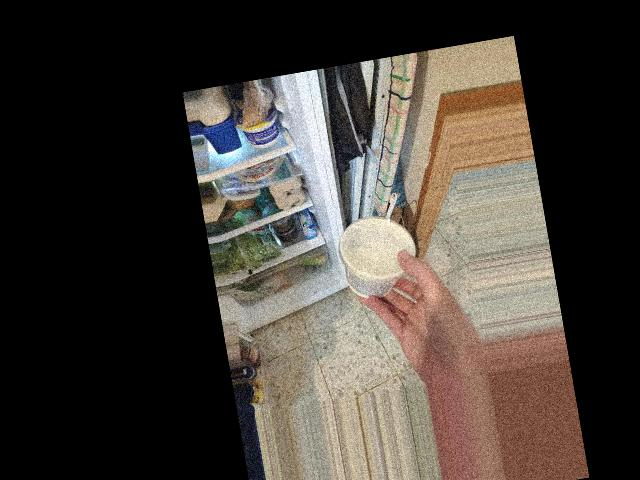cotage: (337, 204, 416, 300)
